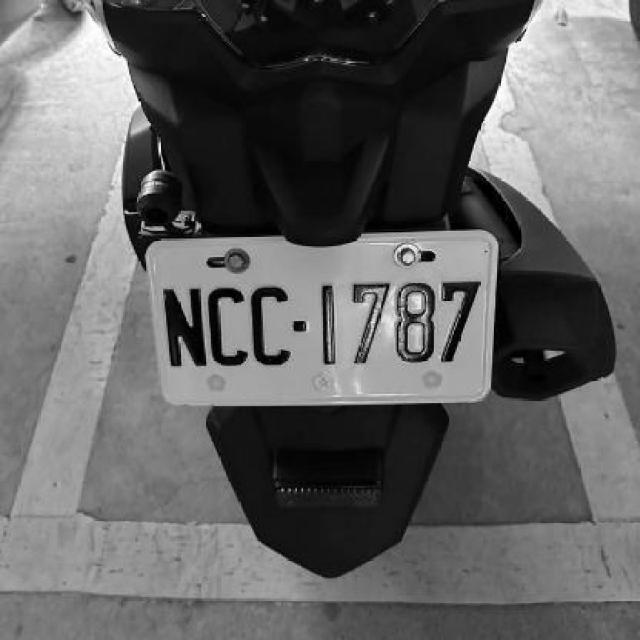-: (290, 320, 304, 332)
1: (318, 282, 334, 368)
7: (437, 276, 480, 364), (352, 277, 392, 361)
8: (394, 277, 437, 361)
C: (205, 283, 249, 365), (250, 283, 292, 366)
N: (162, 282, 204, 364)
